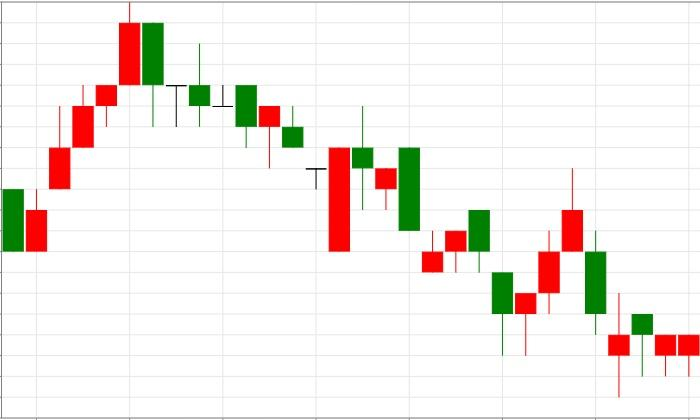three_white_soldiers_rise: (469, 167, 583, 356)
